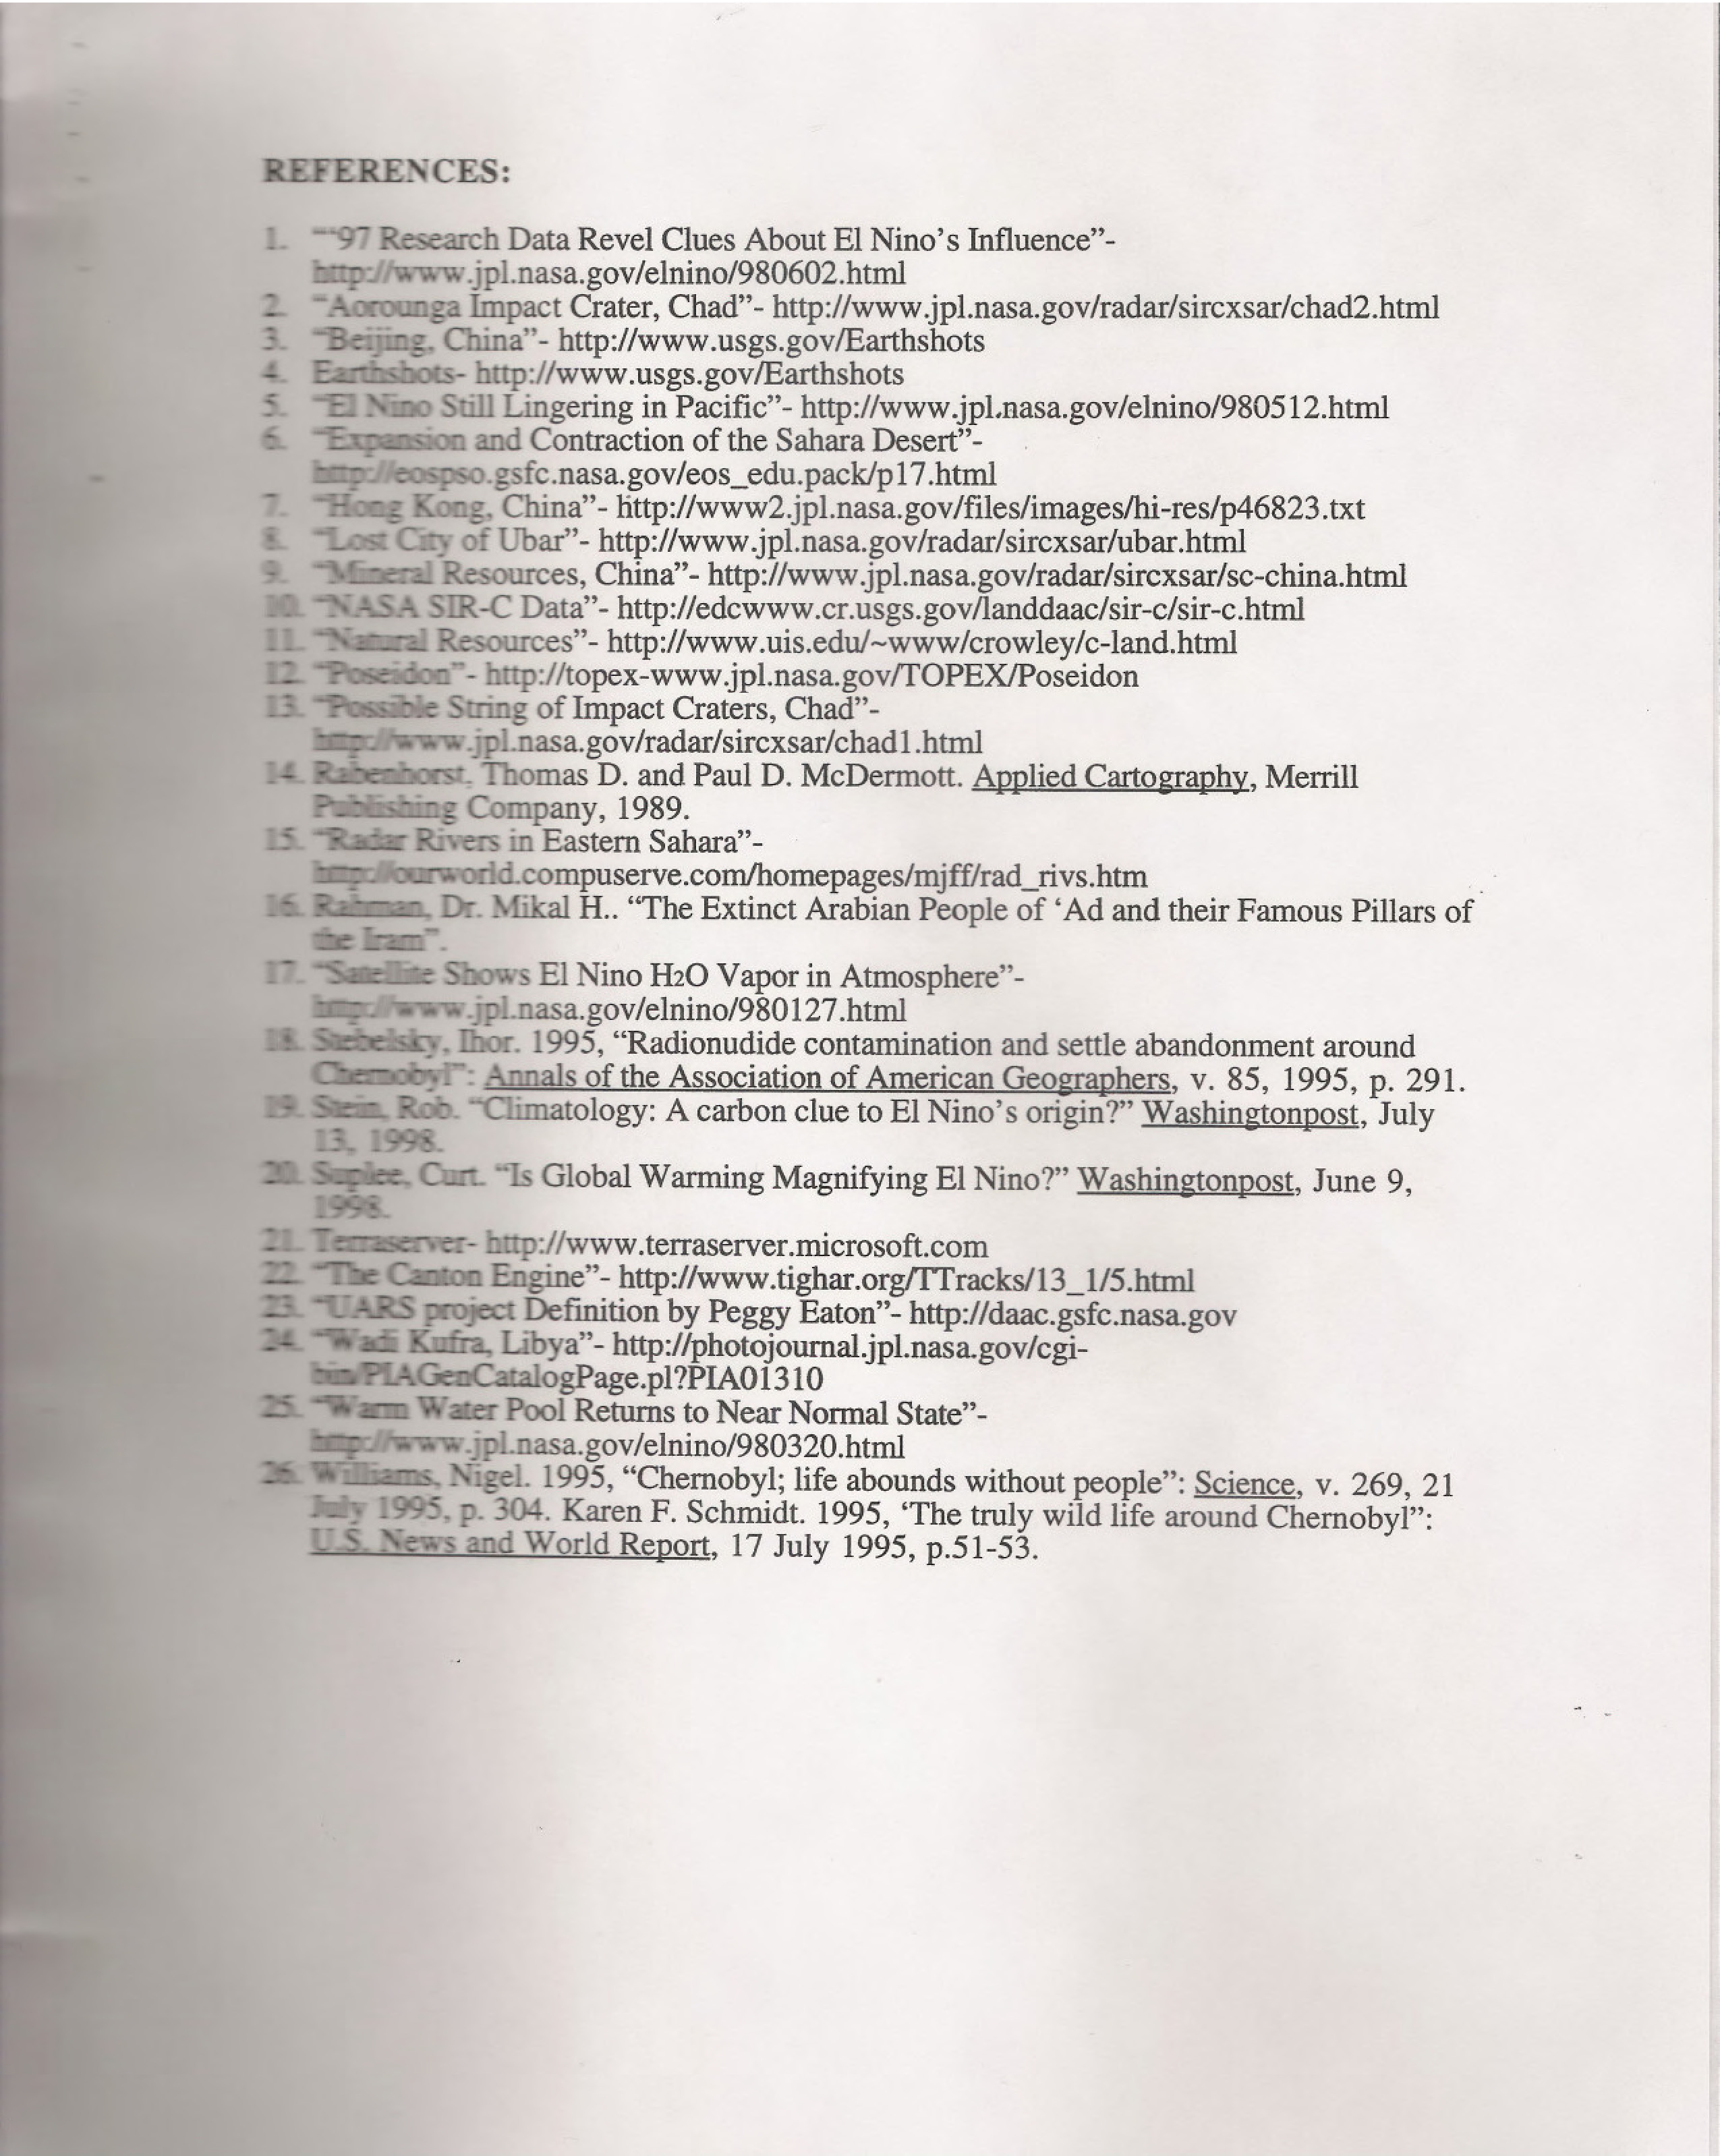list: (240, 204, 1527, 1636)
section: (244, 128, 532, 214)
